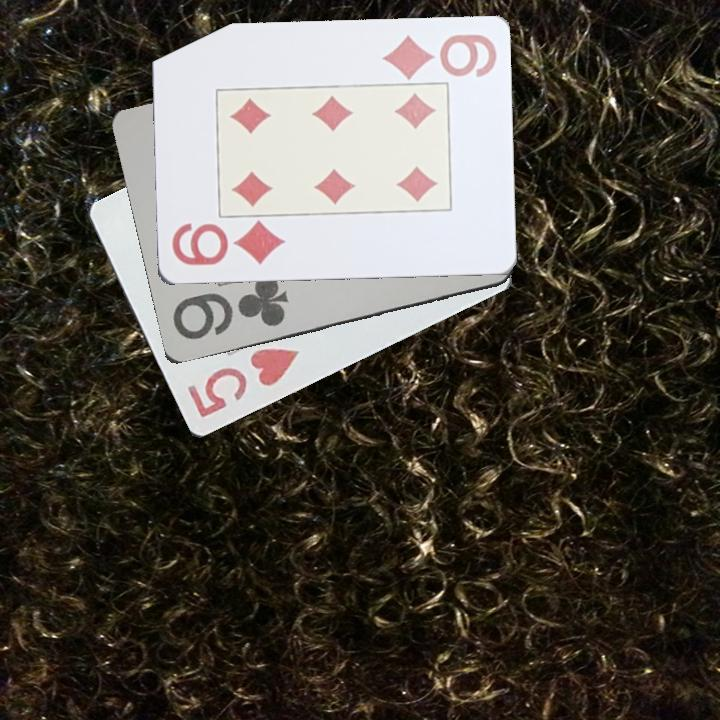5h: (183, 345, 303, 422)
6d: (167, 219, 288, 269), (378, 31, 499, 81)
9c: (169, 276, 291, 344)
